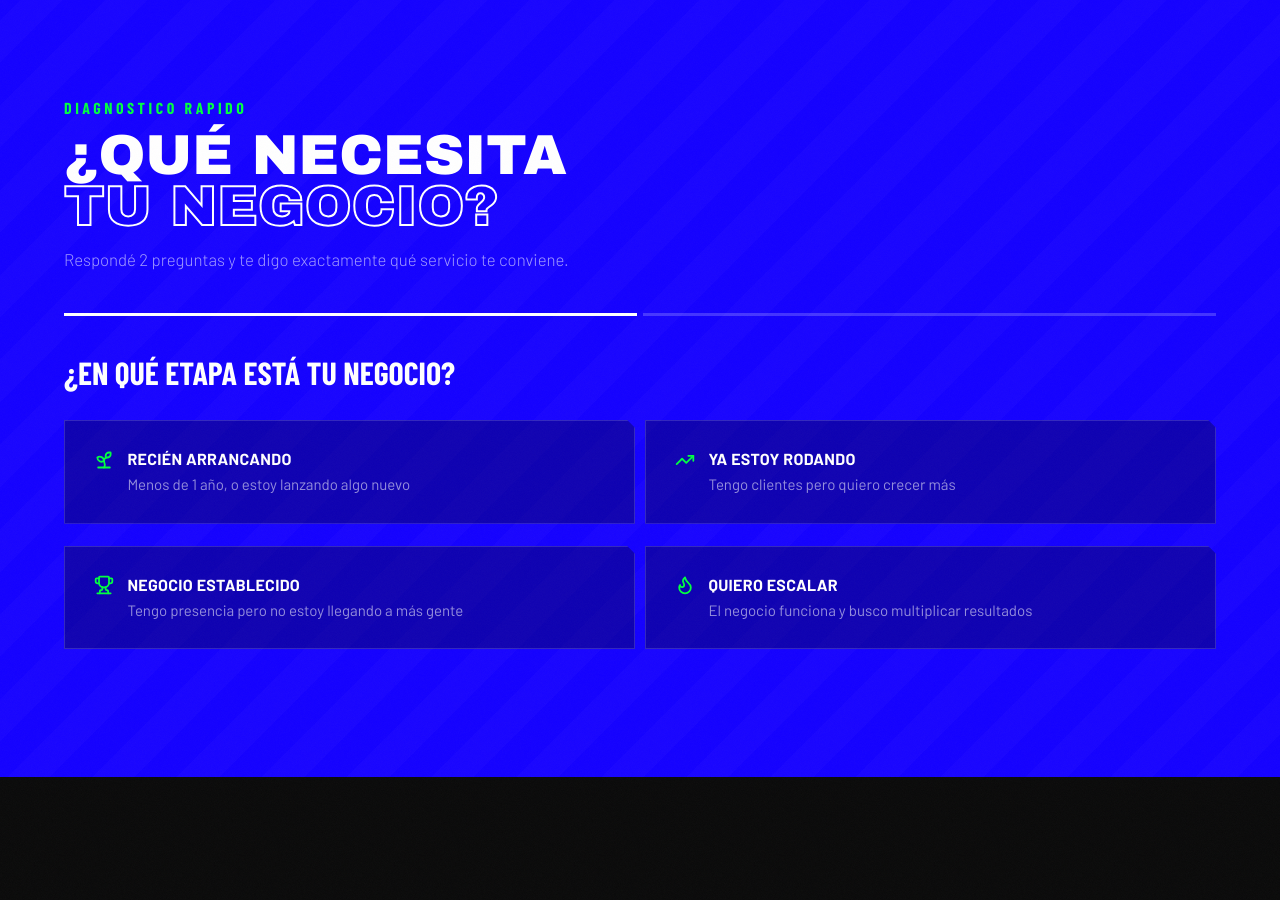
Test: BusinessDiagnostic › shows the matching diagnostic block when a stage is selected
Step 1. Click the button "Negocio establecido" → (214, 584), box [64,546,635,649]
Wait 300 ms
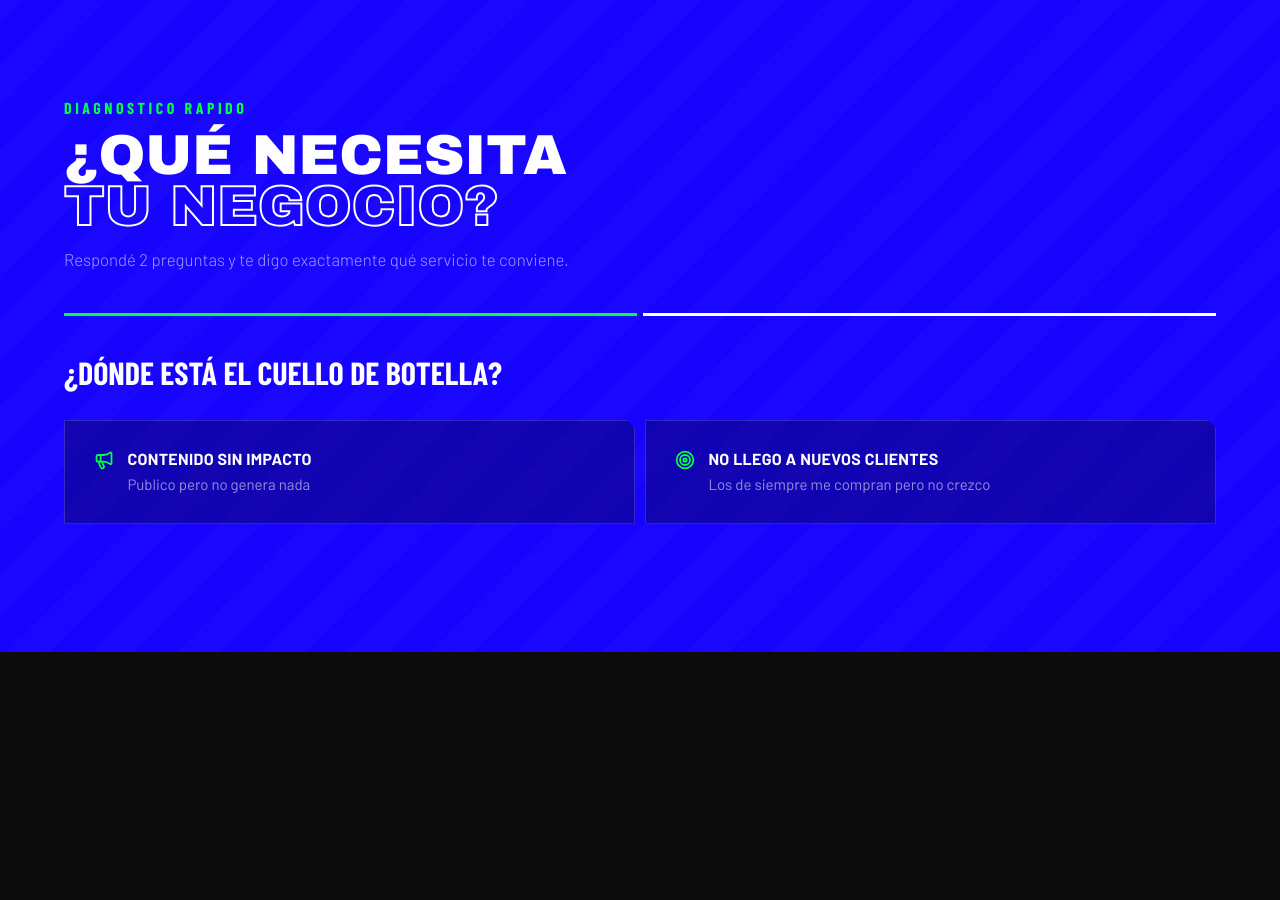
Expected: the text "¿Dónde está el cuello de botella?" is shown, [64,353,502,391]
Expected: the button "Contenido sin impacto Publico pero no genera nada" is shown, [64,420,635,524]
Expected: the button "No llego a nuevos clientes" is shown, [645,420,1216,524]
